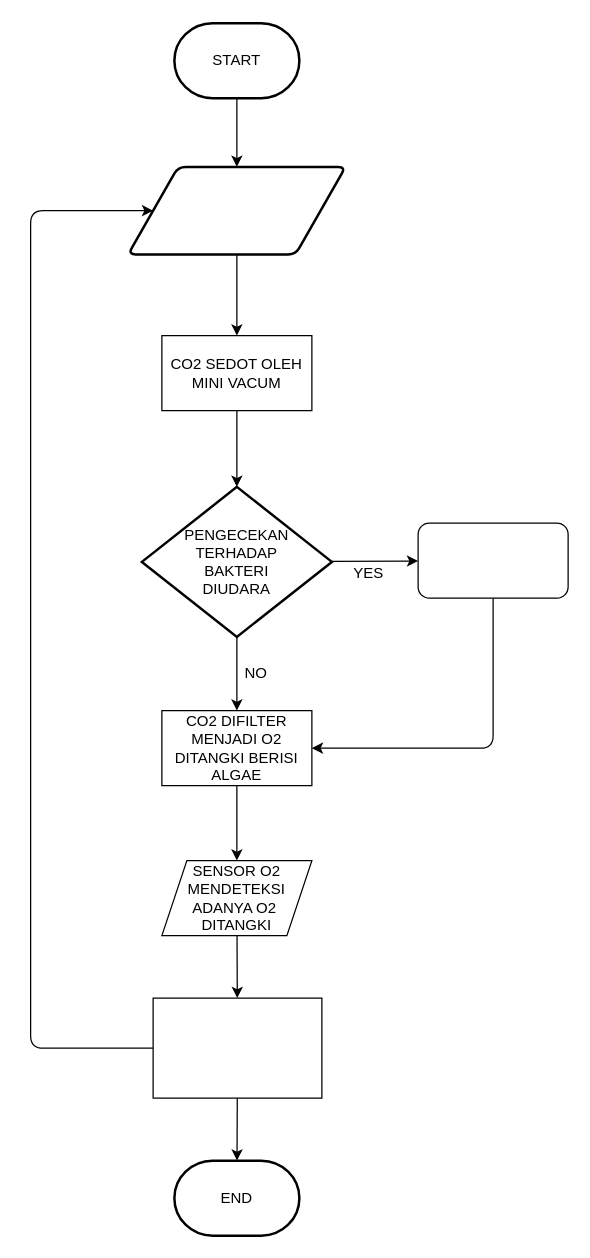
Some shapes in this 590 by 1258 pixel diagram are drawn without their labels. The centre of each missing label's shape, as x and y in pixels:
BAKTERI DISARING OLEH HEPA ELECTROSTATIS: the point at 492,560
MINI VACUM KEDUA MENYEDOT O2 DITANKI DAN DILEPASKAN DIUDARA: the point at 237,1047
SENSOR CO2 MENDEKTEKSI KANDUNGAN CO2: the point at 236,210
